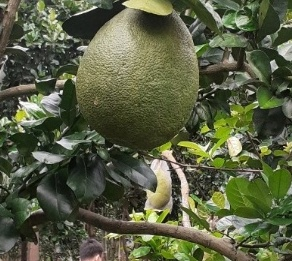Buoi: (73, 1, 206, 161)
